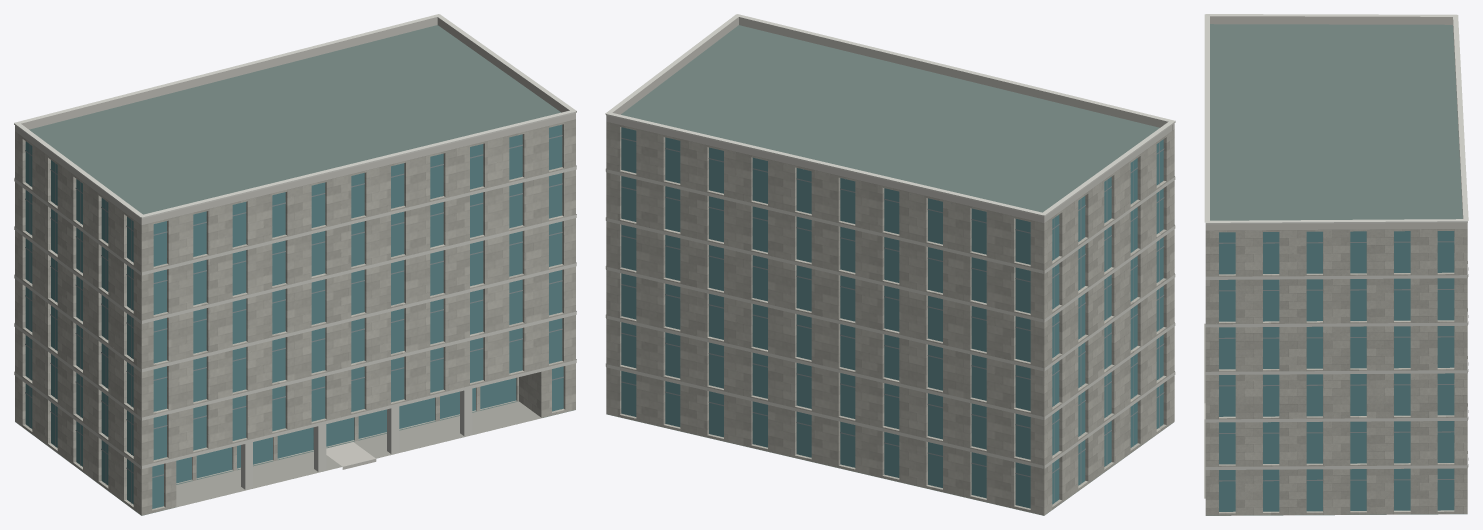
3 renders of one model, left to right at view 1: azimuth 30°, elevation 25°; view 2: azimuth 150°, elevation 25°; view 3: azimuth 270°, elevation 25°, orthographic. The views are drawn at different scales.
Visible parts, largest first — view 1: dreamCenter__wall, dreamCenter__glass, dreamCenter__roof, dreamCenter__trim, dreamCenter__parapet, dreamCenter__base, dreamCenter__frame, dreamCenter__column, dreamCenter__entranceThreshold; view 2: dreamCenter__wall, dreamCenter__glass, dreamCenter__roof, dreamCenter__trim, dreamCenter__parapet, dreamCenter__frame; view 3: dreamCenter__roof, dreamCenter__wall, dreamCenter__glass, dreamCenter__trim, dreamCenter__parapet, dreamCenter__frame, dreamCenter__base.
Part boxes in pixels (left/top/right/bottom): dreamCenter__wall: left=15, top=119, right=575, bottom=515; dreamCenter__glass: left=25, top=124, right=563, bottom=508; dreamCenter__roof: left=15, top=25, right=574, bottom=515; dreamCenter__trim: left=14, top=14, right=576, bottom=468; dreamCenter__parapet: left=15, top=17, right=575, bottom=225; dreamCenter__base: left=176, top=401, right=541, bottom=507; dreamCenter__frame: left=25, top=135, right=563, bottom=503; dreamCenter__column: left=241, top=388, right=472, bottom=489; dreamCenter__entranceThreshold: left=326, top=442, right=376, bottom=469; dreamCenter__wall: left=606, top=122, right=1174, bottom=515; dreamCenter__glass: left=621, top=127, right=1163, bottom=508; dreamCenter__roof: left=607, top=25, right=1173, bottom=515; dreamCenter__trim: left=605, top=14, right=1175, bottom=468; dreamCenter__parapet: left=606, top=17, right=1174, bottom=222; dreamCenter__frame: left=621, top=137, right=1164, bottom=502; dreamCenter__roof: left=1206, top=24, right=1467, bottom=515; dreamCenter__wall: left=1205, top=229, right=1467, bottom=515; dreamCenter__glass: left=1219, top=231, right=1454, bottom=511; dreamCenter__trim: left=1204, top=14, right=1468, bottom=469; dreamCenter__parapet: left=1205, top=16, right=1467, bottom=230; dreamCenter__frame: left=1219, top=241, right=1454, bottom=481; dreamCenter__base: left=1204, top=323, right=1205, bottom=498.
Bounding box in the file's own units: 33.95 × 22.4 × 18.15.
Materials: 10 (1 with a texture image).
